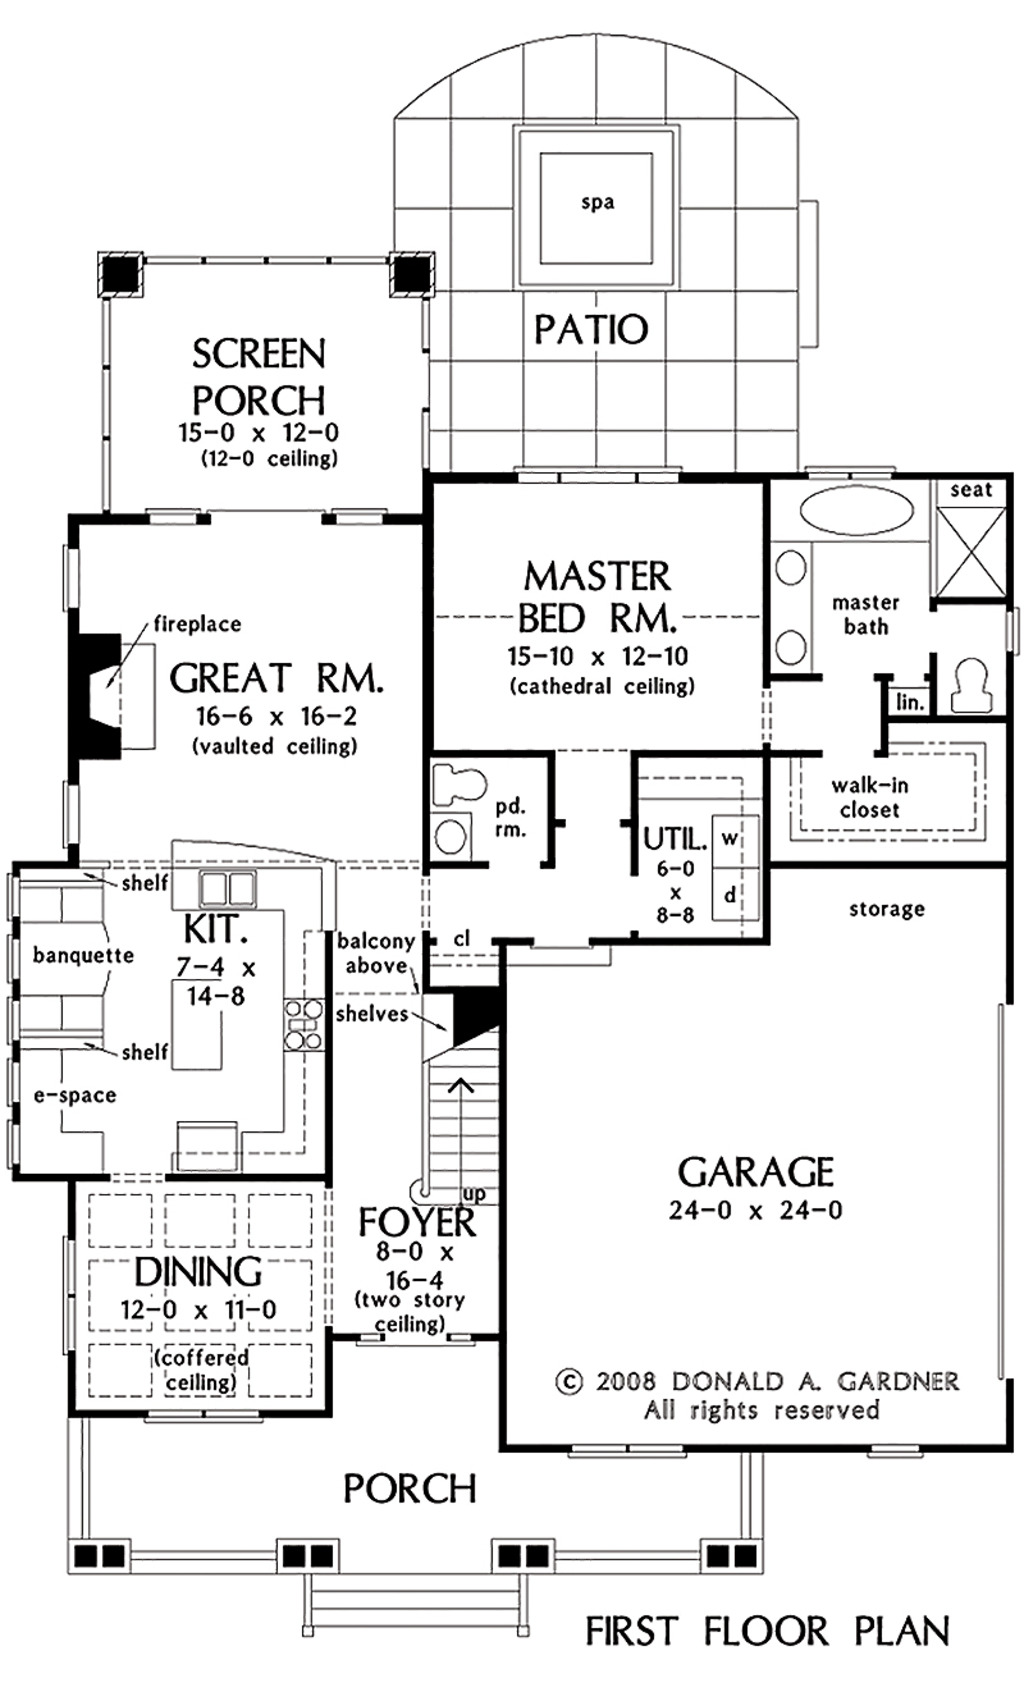large_sink: (431, 759, 517, 814), (955, 651, 1002, 717)
small_sink: (768, 535, 826, 685), (426, 810, 494, 861)
stairs: (411, 974, 500, 1238)
tub: (765, 467, 923, 539)
twin_sink: (197, 868, 271, 917)
window: (44, 525, 111, 614), (513, 459, 694, 490), (52, 769, 108, 846), (138, 498, 217, 550), (334, 493, 397, 554), (134, 1405, 268, 1432), (850, 1425, 929, 1469), (573, 1435, 677, 1460), (63, 1234, 81, 1369)
